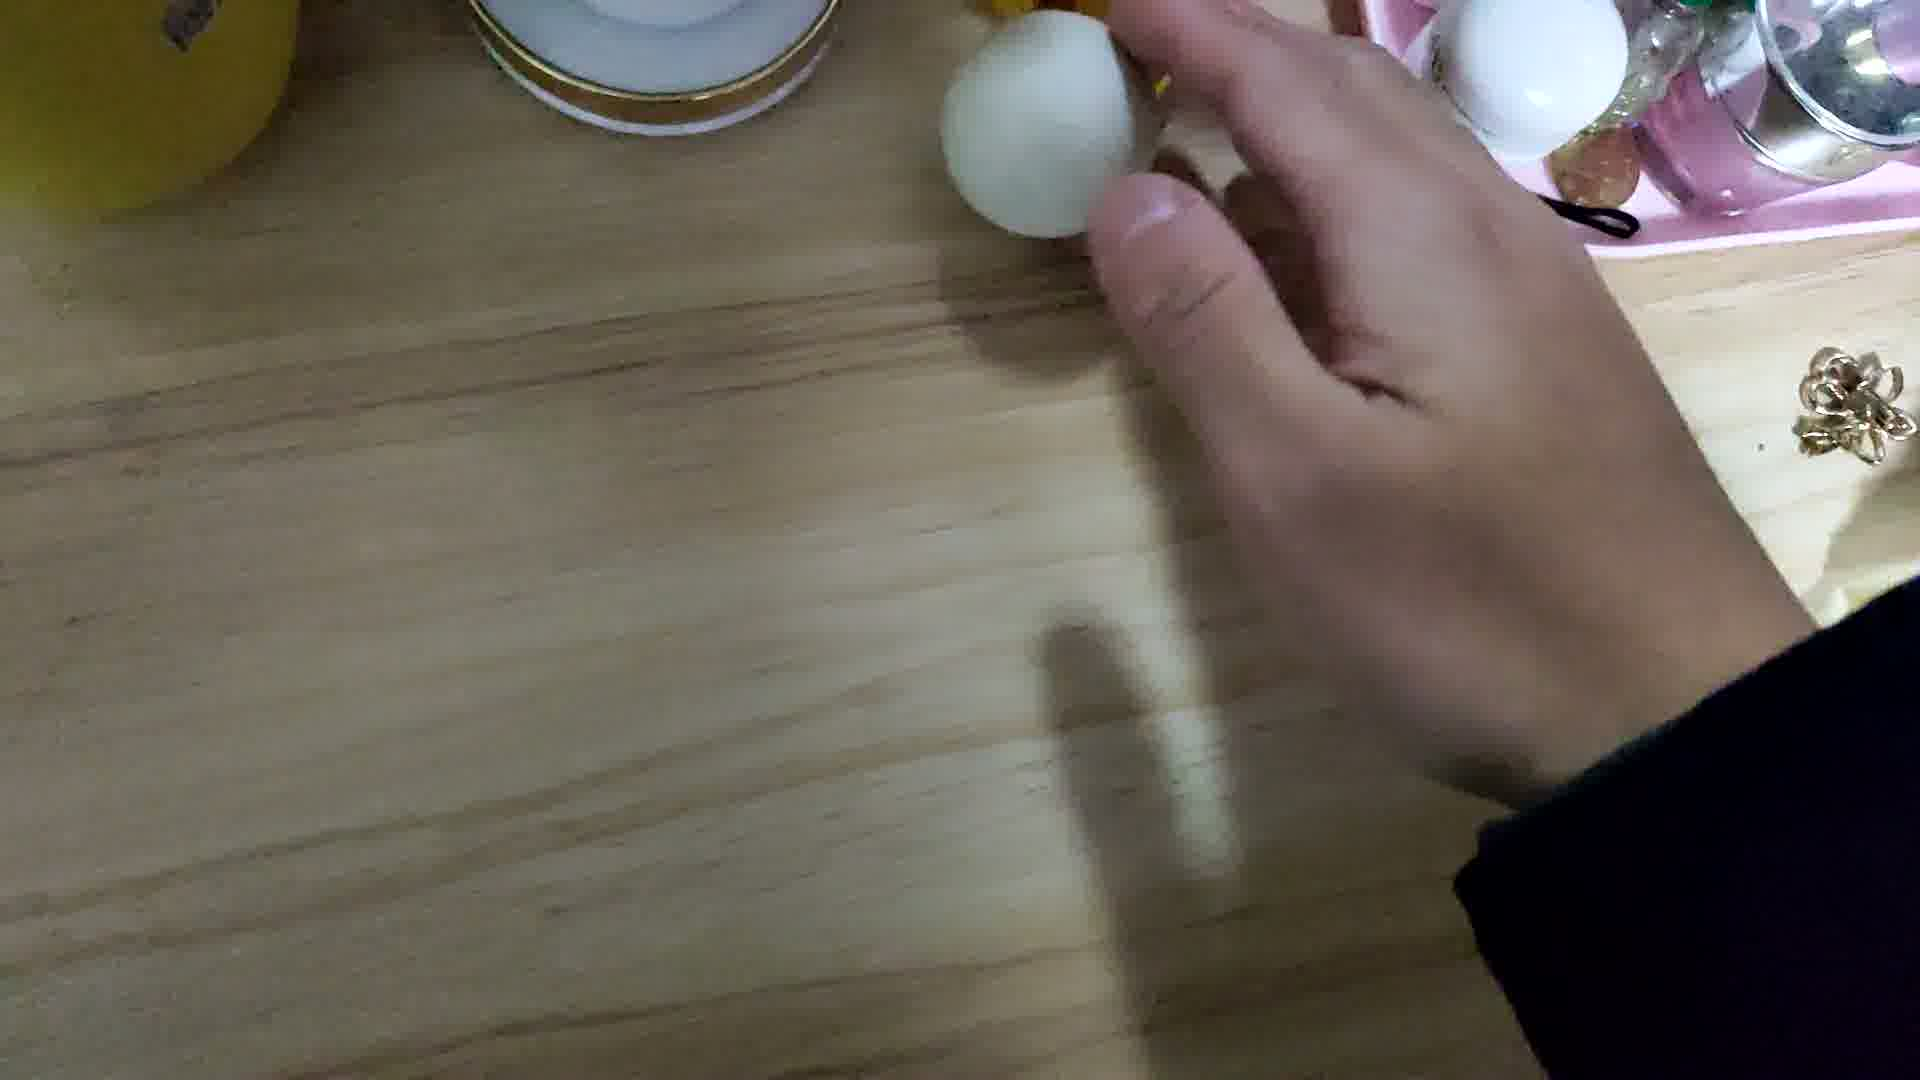Ball: (942, 13, 1162, 237)
